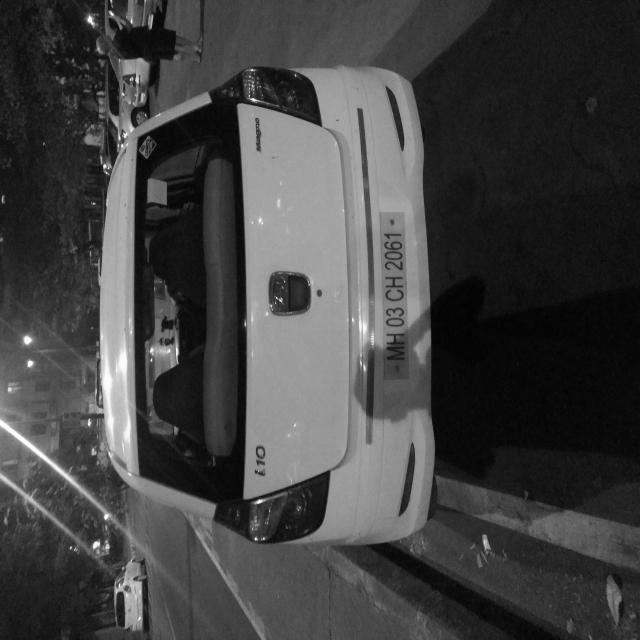car: (64, 119, 436, 589)
license-plate: (194, 501, 320, 544)
